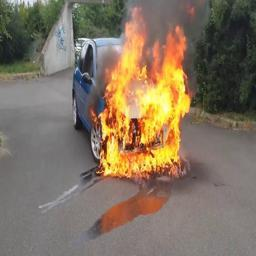fire: (102, 6, 192, 178)
